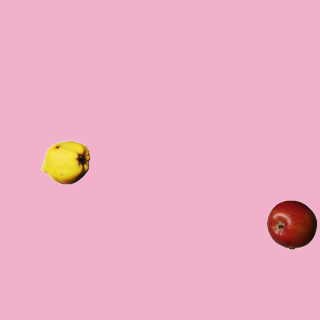Apple Braeburn: (266, 199, 316, 249)
Quince: (40, 137, 90, 187)
